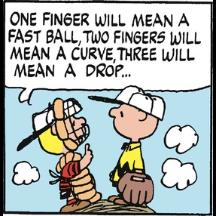charlie: (108, 86, 166, 208)
